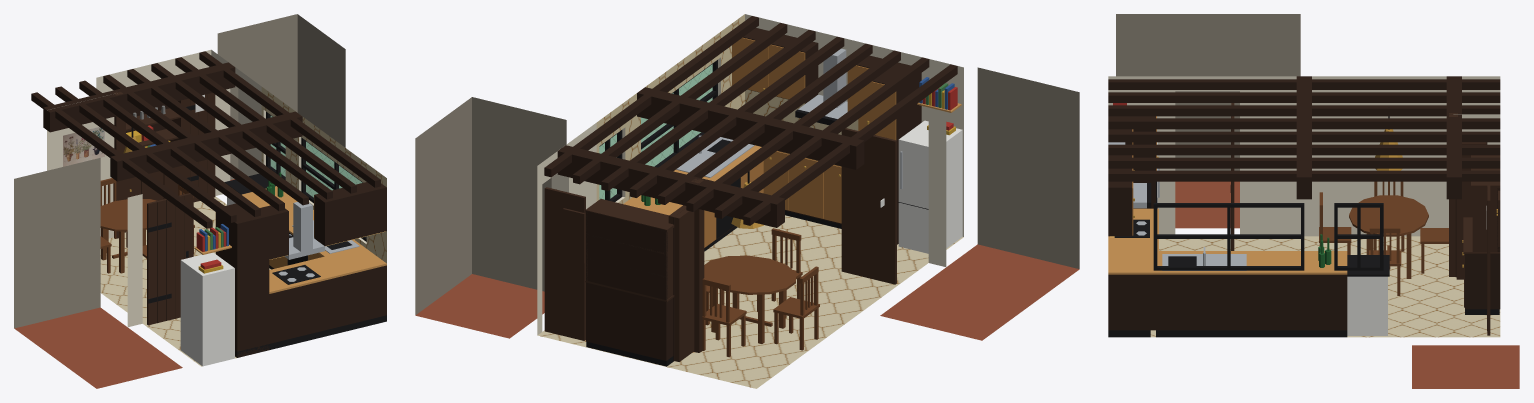
File: kitchen.glb
3 renders of one model, left to right at view 1: azimuth 30°, elevation 25°; view 2: azimuth 150°, elevation 25°; view 3: azimuth 270°, elevation 25°, orthographic. The views are drawn at different scales.
Visible parts, largest first — view 1: Kitchen_LowPoly; view 2: Kitchen_LowPoly; view 3: Kitchen_LowPoly.
Boxes of the visible parts, x1,y1,x2,y2 form: Kitchen_LowPoly: (14, 14, 386, 388); Kitchen_LowPoly: (415, 14, 1079, 388); Kitchen_LowPoly: (1108, 14, 1519, 388).
Size of the model in its own units: 6.4 by 2.4 by 5.35.
6 materials, 6 textured.
